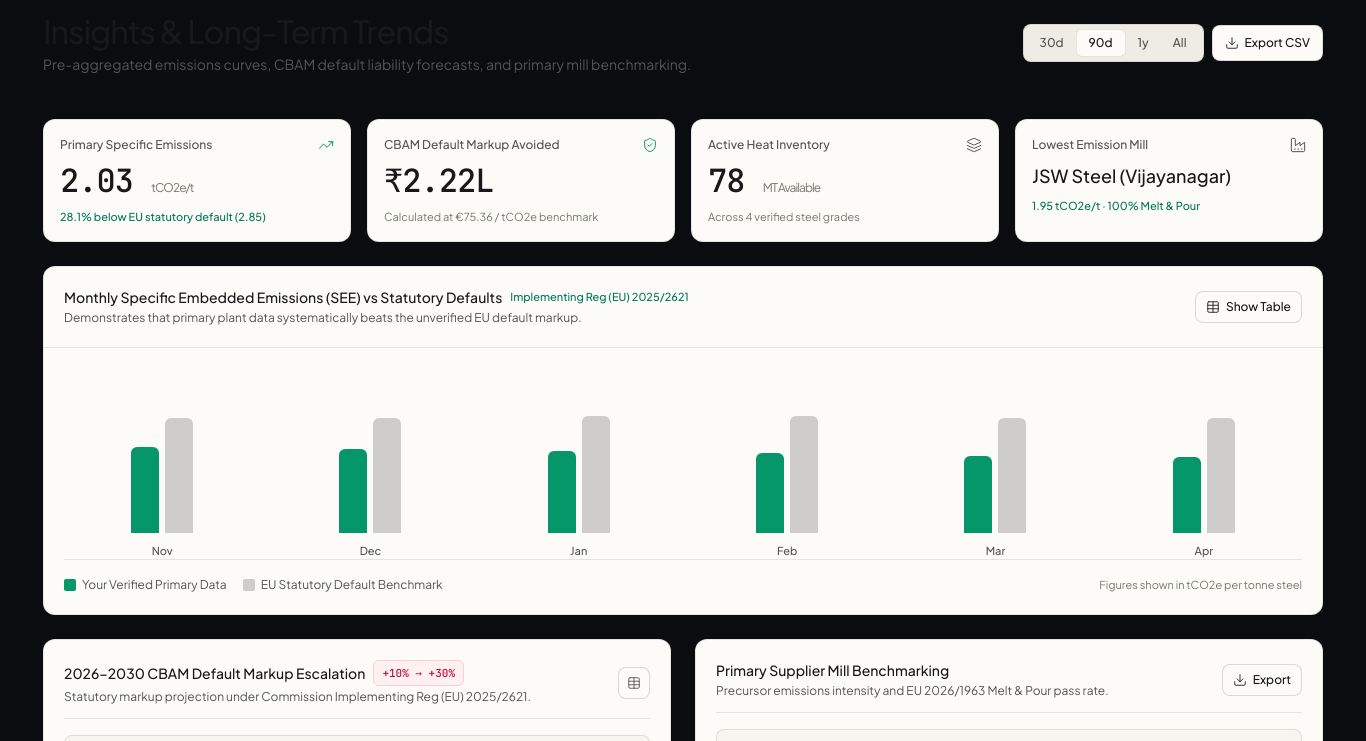
Scenario: Prompt P12: Insights & Trends View › allows toggling between Chart and Table view for Emissions Trend
Expected: the heading "Monthly Specific Embedded Emissions" is shown, [64,288,502,306]
Click the button with aria-label "Toggle Data Table": (1248,307) [1195,291,1302,323]
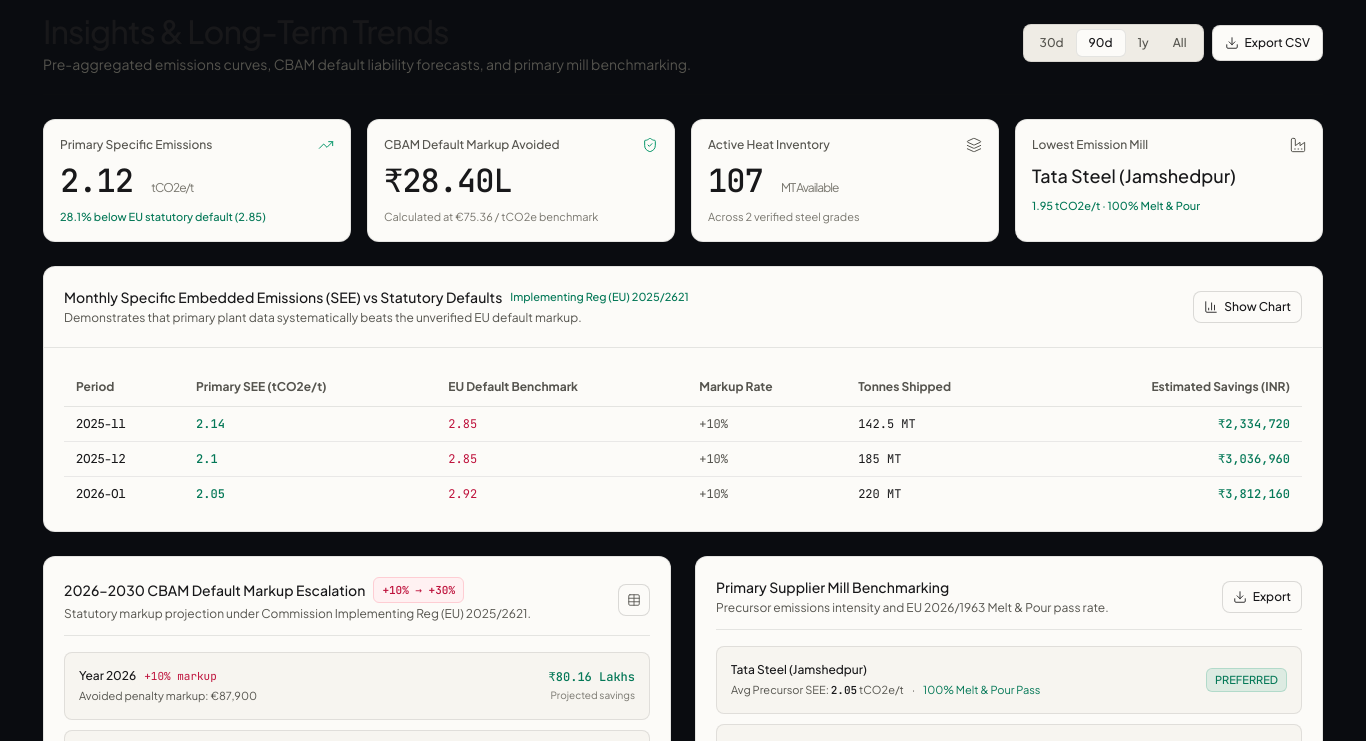
Result: the text "2025-11" is shown at [64,407,184,442]
Result: the text "2.14" is shown at [184,407,436,442]
Result: the text "2.85" in the row of "2025-11" is shown at [448,416,477,432]
